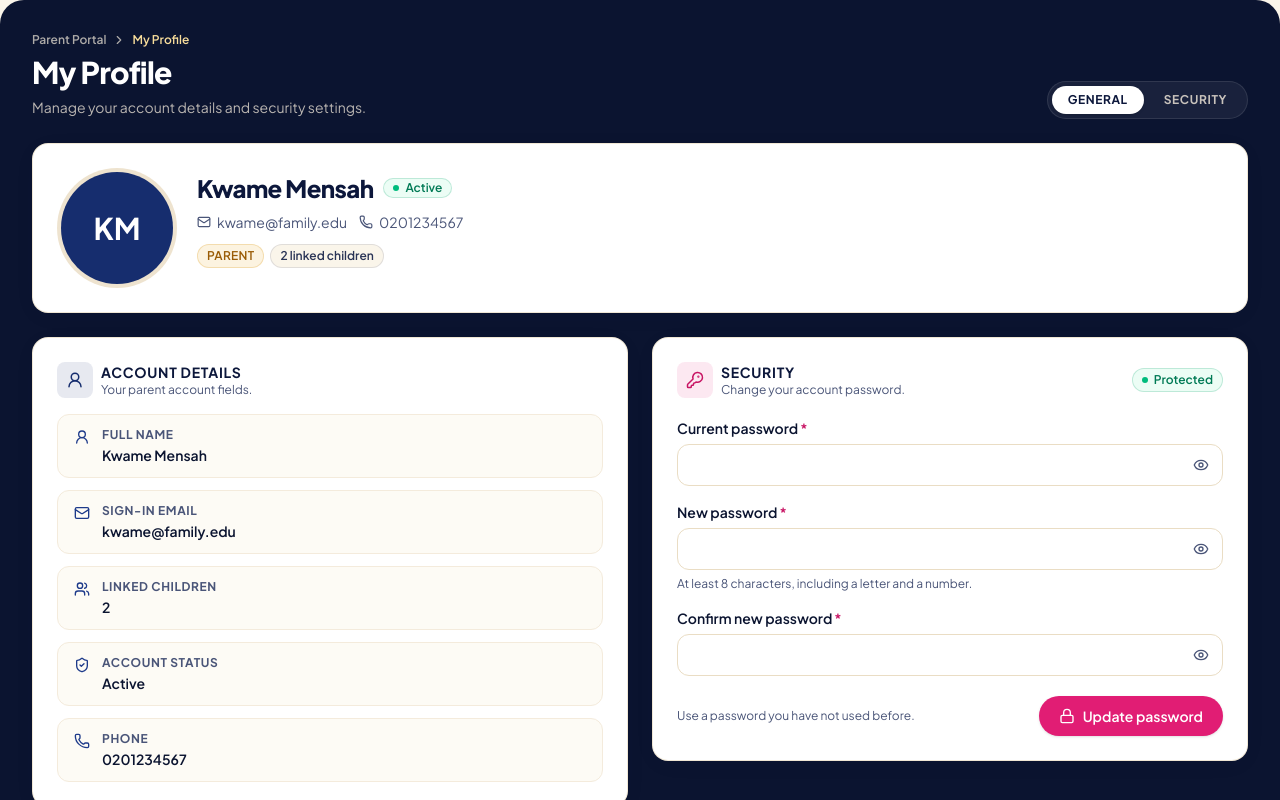
Test: ParentProfilePage › validates password requirements before submitting
This screenshot has width=1280, height=800.
In the password field labelled "Current password*": point(950, 465) [677, 444, 1223, 486], type "oldPass1"
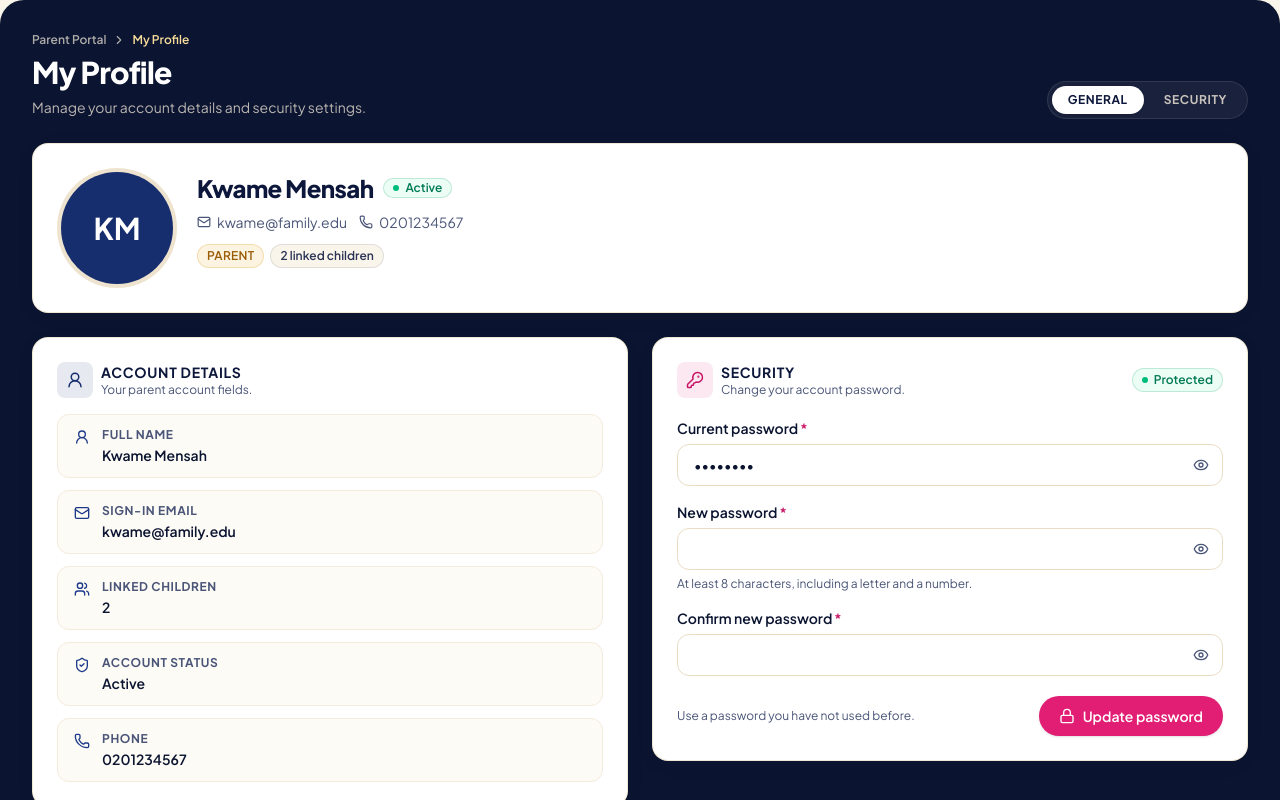
In the password field labelled "New password*": point(950, 549) [677, 528, 1223, 570], type "short"
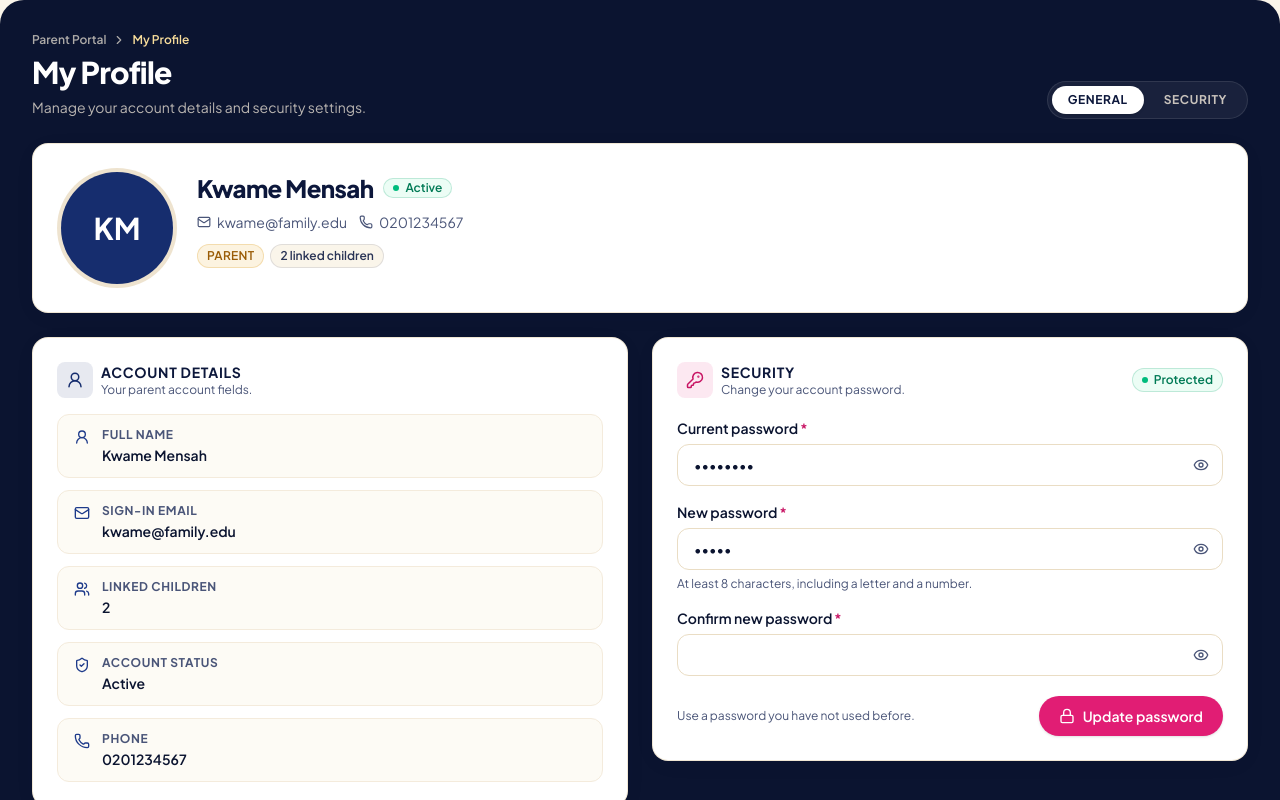
In the password field labelled "Confirm new password*": point(950, 655) [677, 634, 1223, 676], type "short"
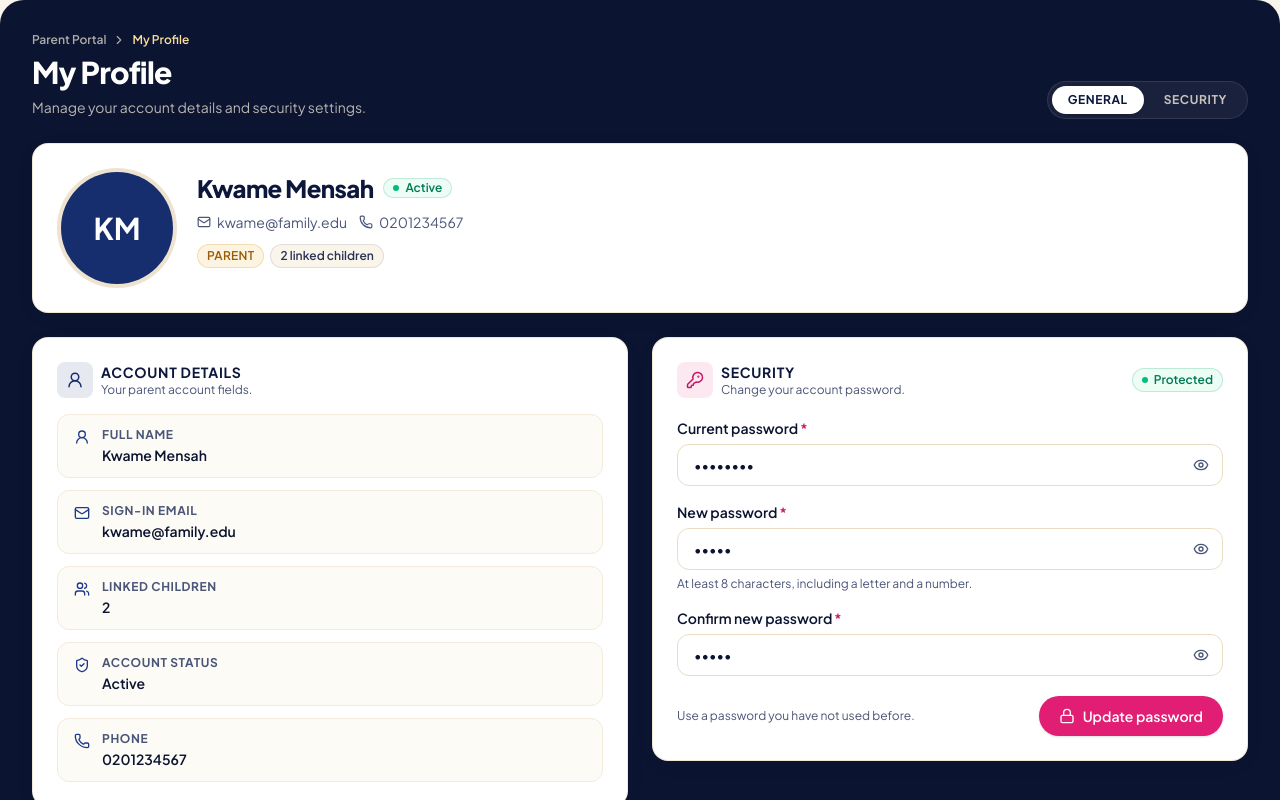
Click the button "Update password": point(1131, 716) [1039, 696, 1223, 736]
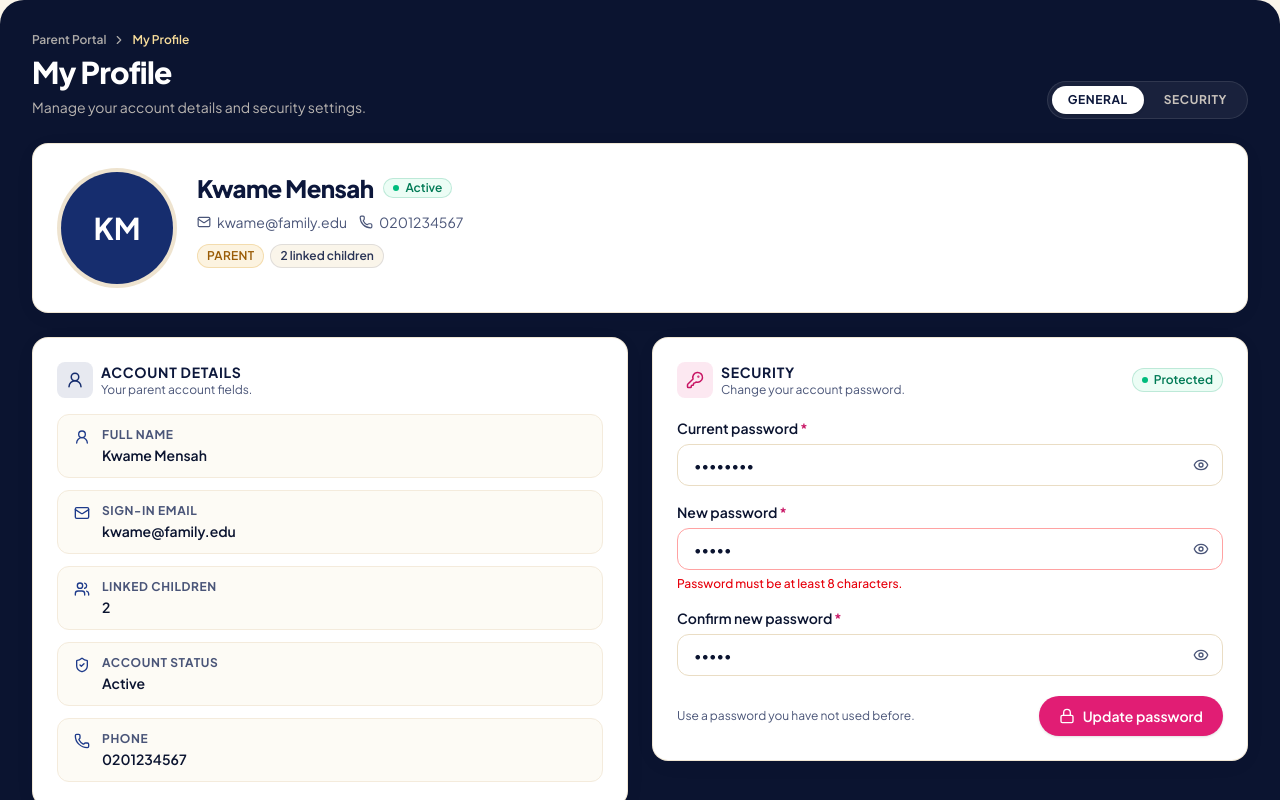
Now the message reads "Password must be at least 8 characters.", box [677, 576, 902, 591]
